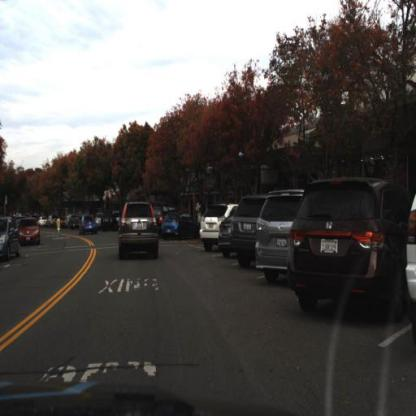car: (288, 178, 416, 327), (256, 180, 304, 288), (228, 189, 264, 274), (116, 201, 165, 262), (199, 195, 239, 254), (160, 206, 200, 243), (1, 213, 22, 268), (2, 215, 24, 261), (18, 214, 41, 254), (77, 210, 103, 239), (218, 212, 234, 257)
